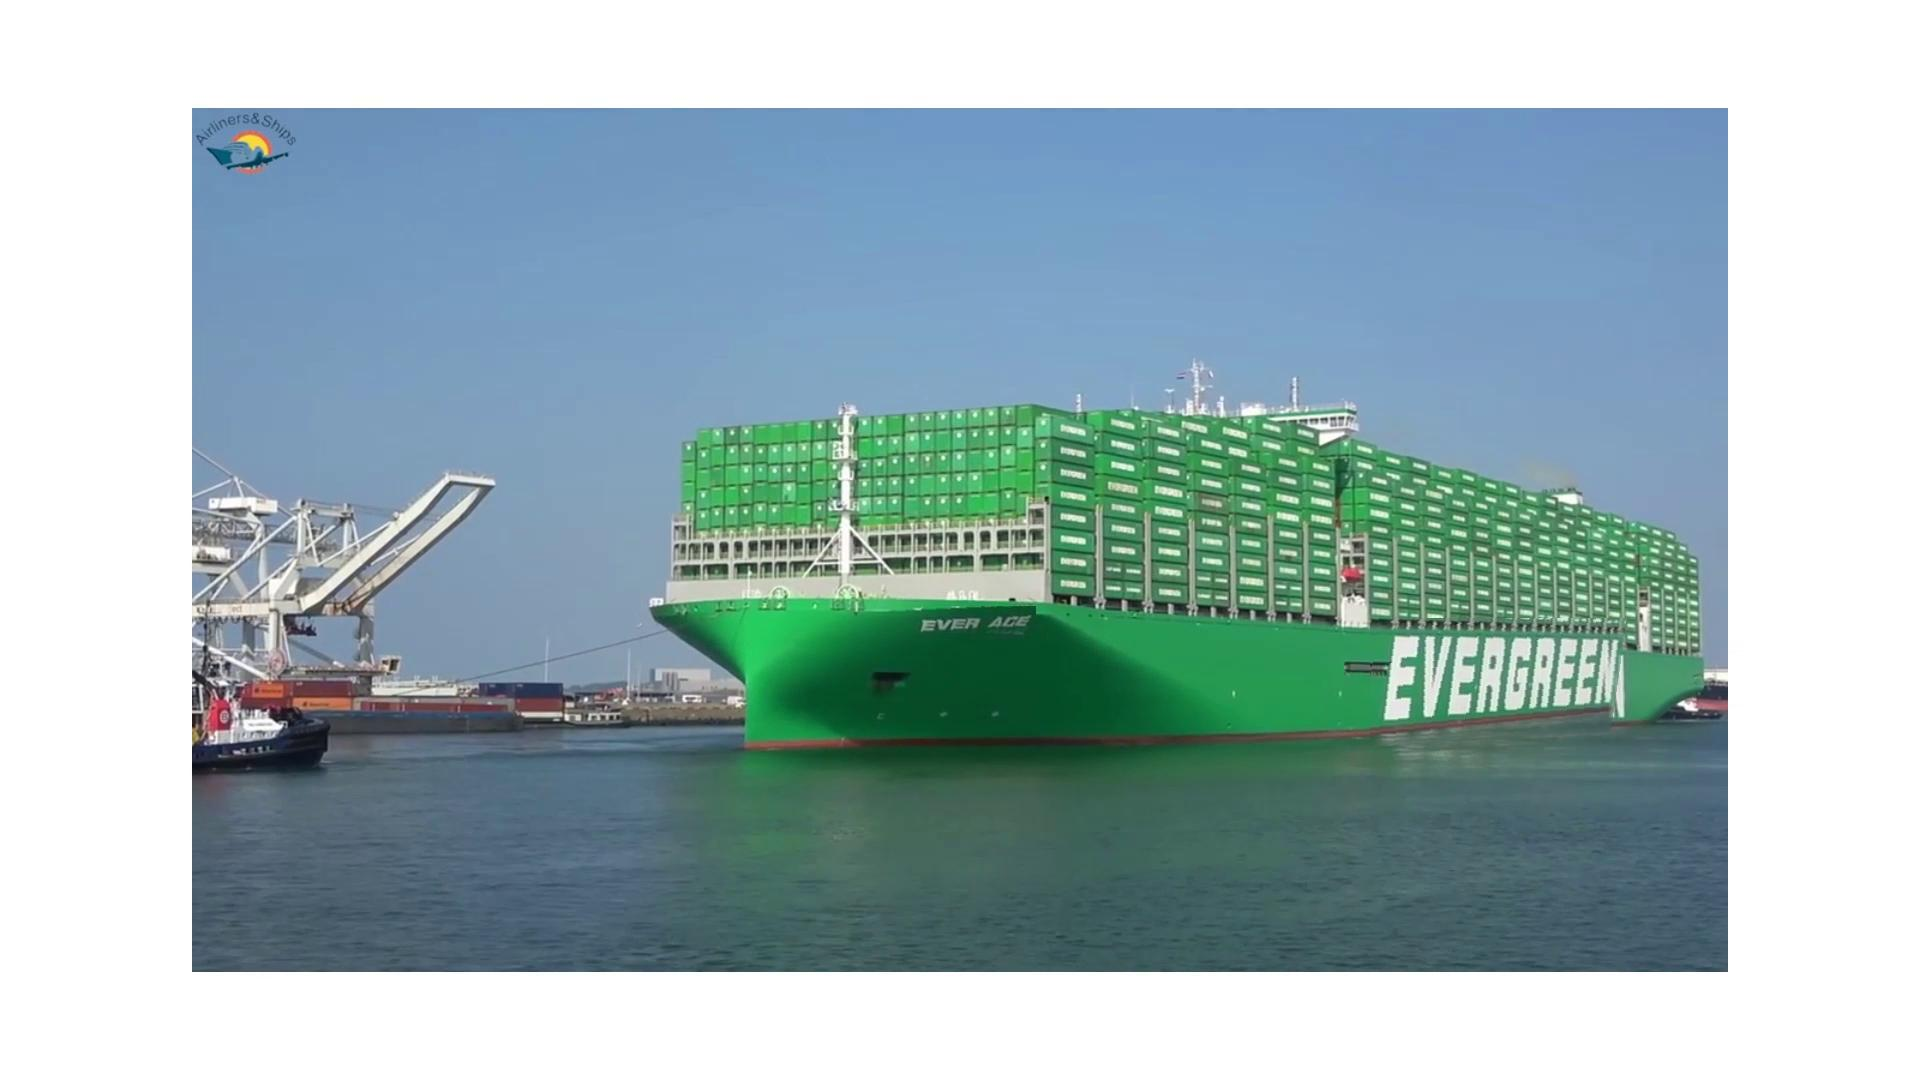OCR: (1370, 618, 1629, 748), (898, 607, 1036, 642)
